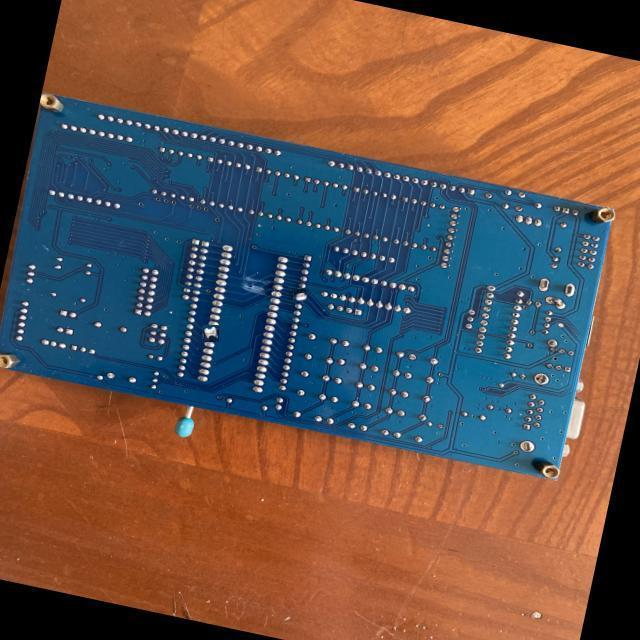damged: (202, 326, 219, 342), (292, 289, 308, 303)
